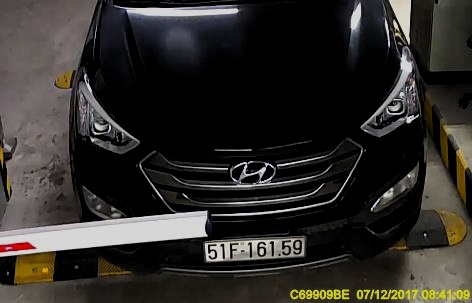plate: (204, 234, 307, 262)
